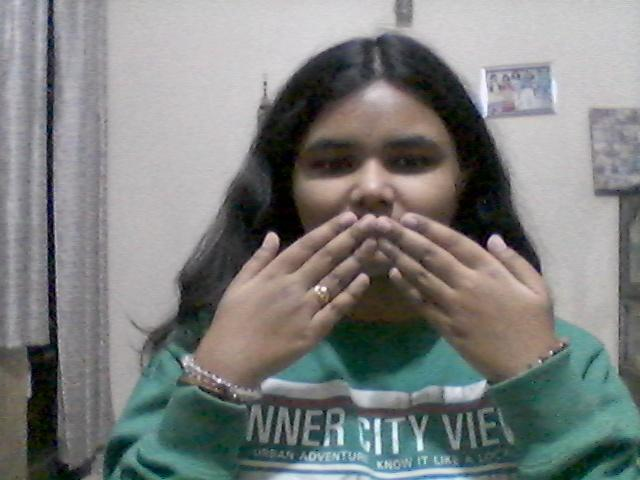thank you: (180, 214, 568, 389)
